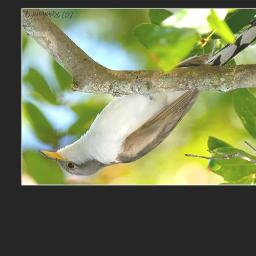Cuckoo: (32, 10, 256, 178)
